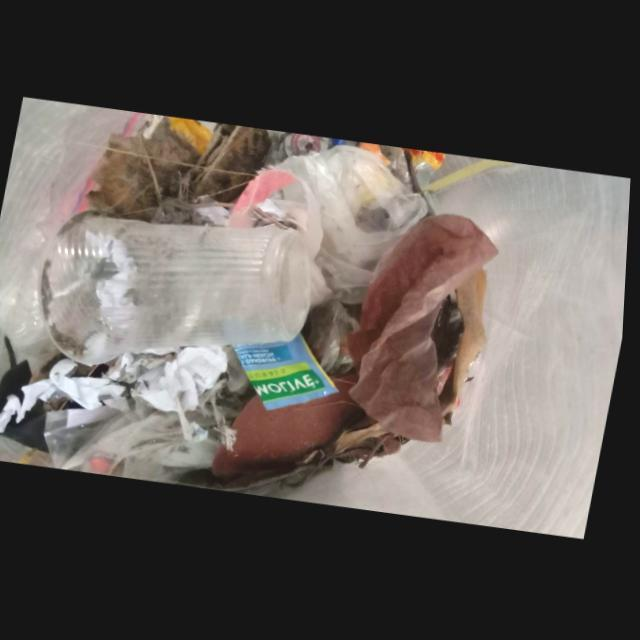biowaste: (342, 214, 501, 452)
paper: (132, 345, 232, 426), (21, 358, 134, 423)
plastic: (38, 211, 318, 368), (270, 145, 431, 305)
wrapper: (234, 335, 343, 411)
